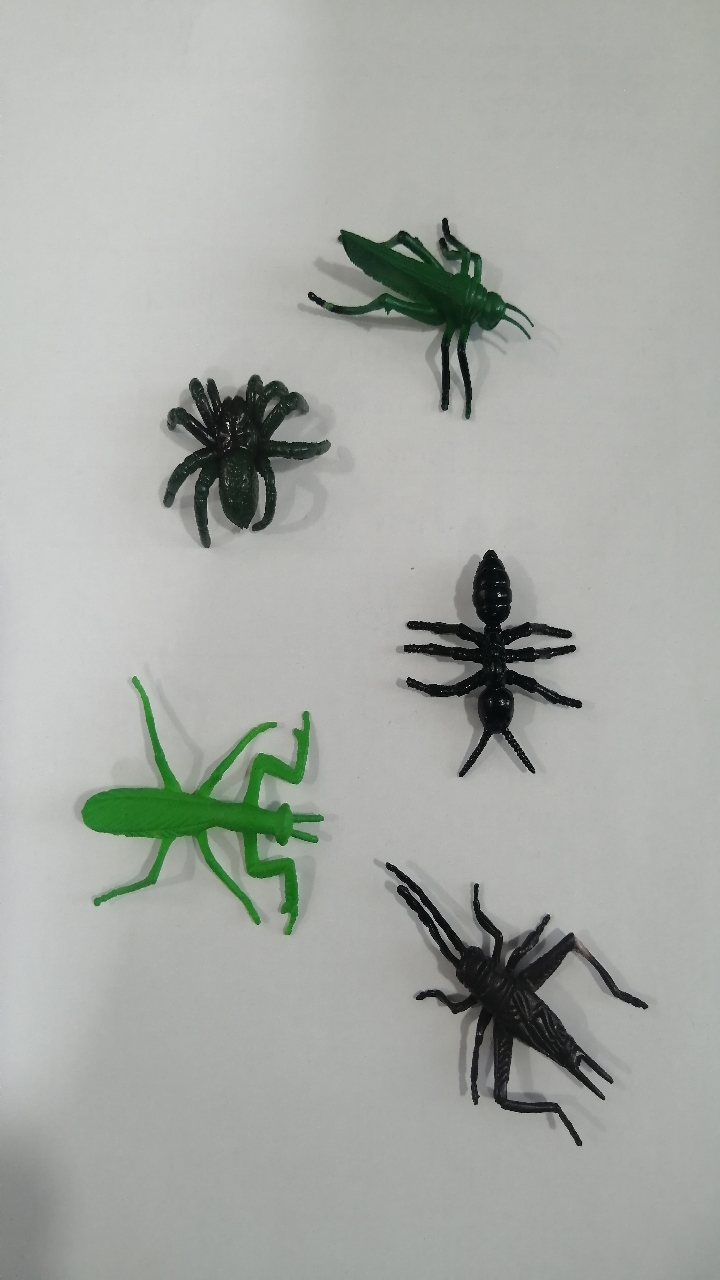intruso: (355, 834, 668, 1183), (49, 640, 352, 994), (280, 180, 564, 448), (371, 522, 598, 800), (121, 339, 344, 585)
